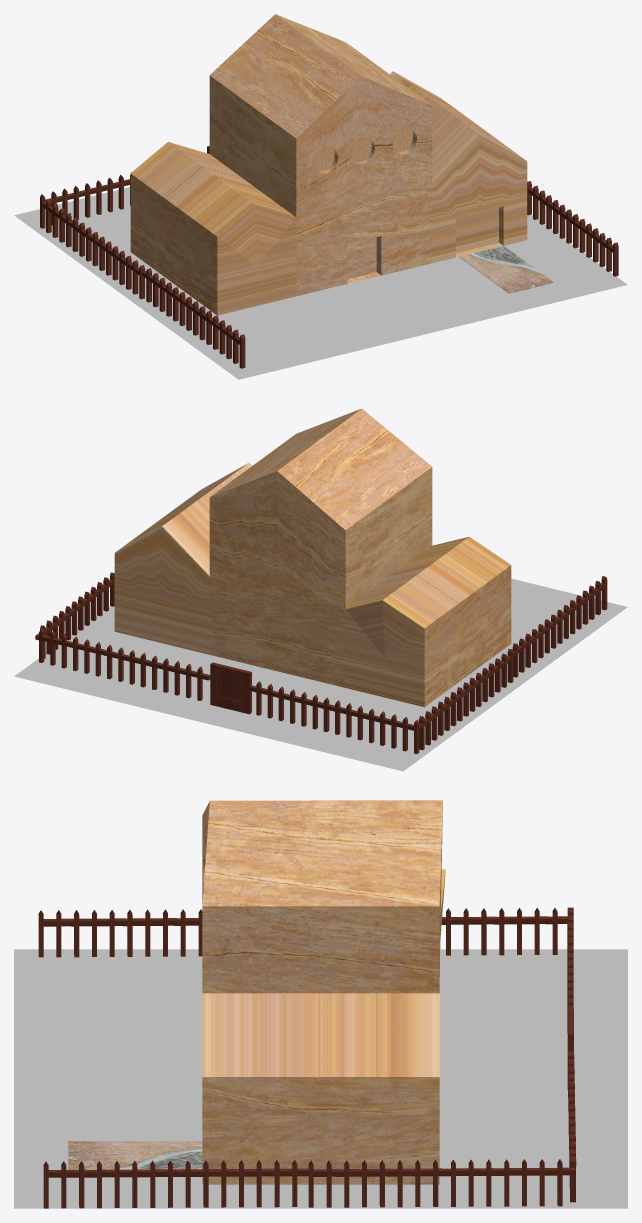
The model's file is casita.fbx.
3 views of the same model, one above another, from view 1: azimuth 30°, elevation 25°; view 2: azimuth 150°, elevation 25°; view 3: azimuth 270°, elevation 25° (orthographic). The views are drawn at different scales.
Visible parts, largest first — view 1: Cube, Plane, Cube.006, Cube.005, Cube.003, Cube.007, Cube.004; view 2: Cube, Plane, Cube.004, Cube.001, Cube.005, Cube.006, Cube.002, Cube.010; view 3: Plane, Cube, Cube.003, Cube.002, Cube.007, Cube.006, Cube.005, Cube.001, Cube.004.
Part boxes in pixels (x1,y1,x2,y2): Cube: (130,14,527,315); Plane: (14,187,627,379); Cube.006: (142,268,245,368); Cube.005: (42,199,144,299); Cube.003: (527,181,618,276); Cube.007: (459,246,553,293); Cube.004: (40,172,131,228); Cube: (114,408,511,707); Plane: (14,578,627,771); Cube.004: (250,681,419,753); Cube.001: (39,628,210,700); Cube.005: (419,649,513,750); Cube.006: (512,576,607,677); Cube.002: (35,572,114,658); Cube.010: (210,662,251,714); Plane: (14,949,627,1208); Cube: (202,800,445,1184); Cube.003: (43,1160,308,1208); Cube.002: (308,1159,575,1207); Cube.007: (68,1141,202,1169); Cube.006: (38,909,202,957); Cube.005: (441,908,567,955); Cube.001: (568,1051,576,1202); Cube.004: (567,907,573,1032).
Size of the model in its own units: 2007 by 1000 by 2000.
